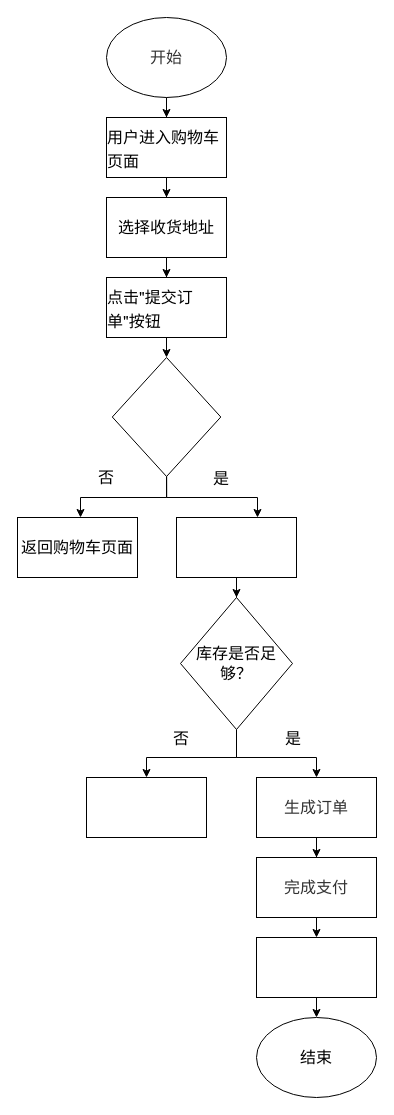
This 394x1115 diagram has some shape labels left out. Each missing label, with the centre of its shape:
"提示：库存不足" belongs at pixel 146 807.
"是否确认？" belongs at pixel 166 416.
"更新支付状态：已支付" belongs at pixel 316 967.
"检查商品库存" belongs at pixel 236 547.
